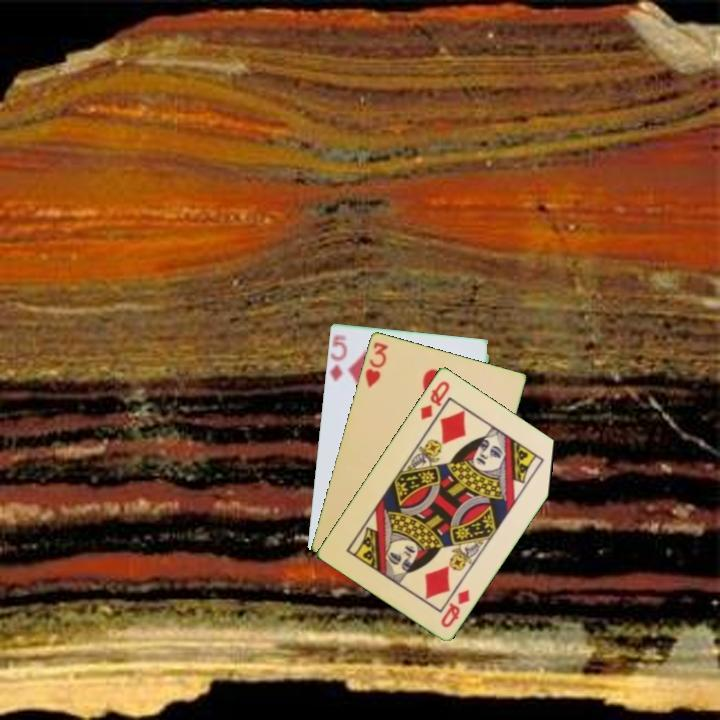3h: (361, 338, 391, 391)
5d: (326, 330, 350, 384)
Qd: (417, 377, 453, 422), (437, 585, 473, 630)
